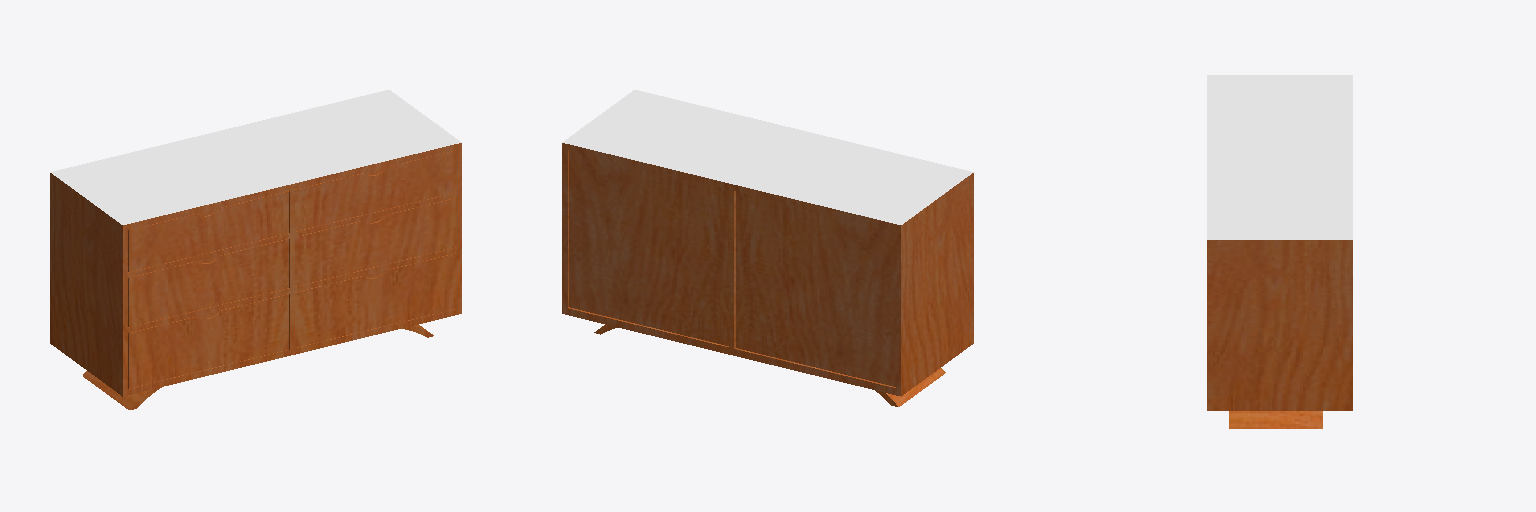
3 renders of one model, left to right at view 1: azimuth 30°, elevation 25°; view 2: azimuth 150°, elevation 25°; view 3: azimuth 270°, elevation 25°, orthographic.
Parts seen in each view (by area): view 1: Mesh1 Component_3_1 Model, Mesh4 Component_3_2 Model, Mesh7 Model, Mesh6 Component_1_2 Model; view 2: Mesh1 Component_3_1 Model, Mesh4 Component_3_2 Model, Mesh7 Model, Mesh6 Component_1_2 Model; view 3: Mesh4 Component_3_2 Model, Mesh7 Model, Mesh2 Component_1_1 Model.
Part boxes in pixels (left/top/right/bottom): Mesh1 Component_3_1 Model: left=50, top=173, right=294, bottom=396; Mesh4 Component_3_2 Model: left=290, top=143, right=461, bottom=354; Mesh7 Model: left=50, top=90, right=461, bottom=224; Mesh6 Component_1_2 Model: left=83, top=371, right=161, bottom=409; Mesh1 Component_3_1 Model: left=729, top=173, right=973, bottom=396; Mesh4 Component_3_2 Model: left=562, top=143, right=733, bottom=355; Mesh7 Model: left=562, top=90, right=973, bottom=224; Mesh6 Component_1_2 Model: left=875, top=368, right=945, bottom=406; Mesh4 Component_3_2 Model: left=1207, top=240, right=1352, bottom=410; Mesh7 Model: left=1207, top=75, right=1352, bottom=239; Mesh2 Component_1_1 Model: left=1229, top=411, right=1322, bottom=428.
Size of the model in its own units: 53.91 by 29.92 by 20.
2 materials, 1 textured.